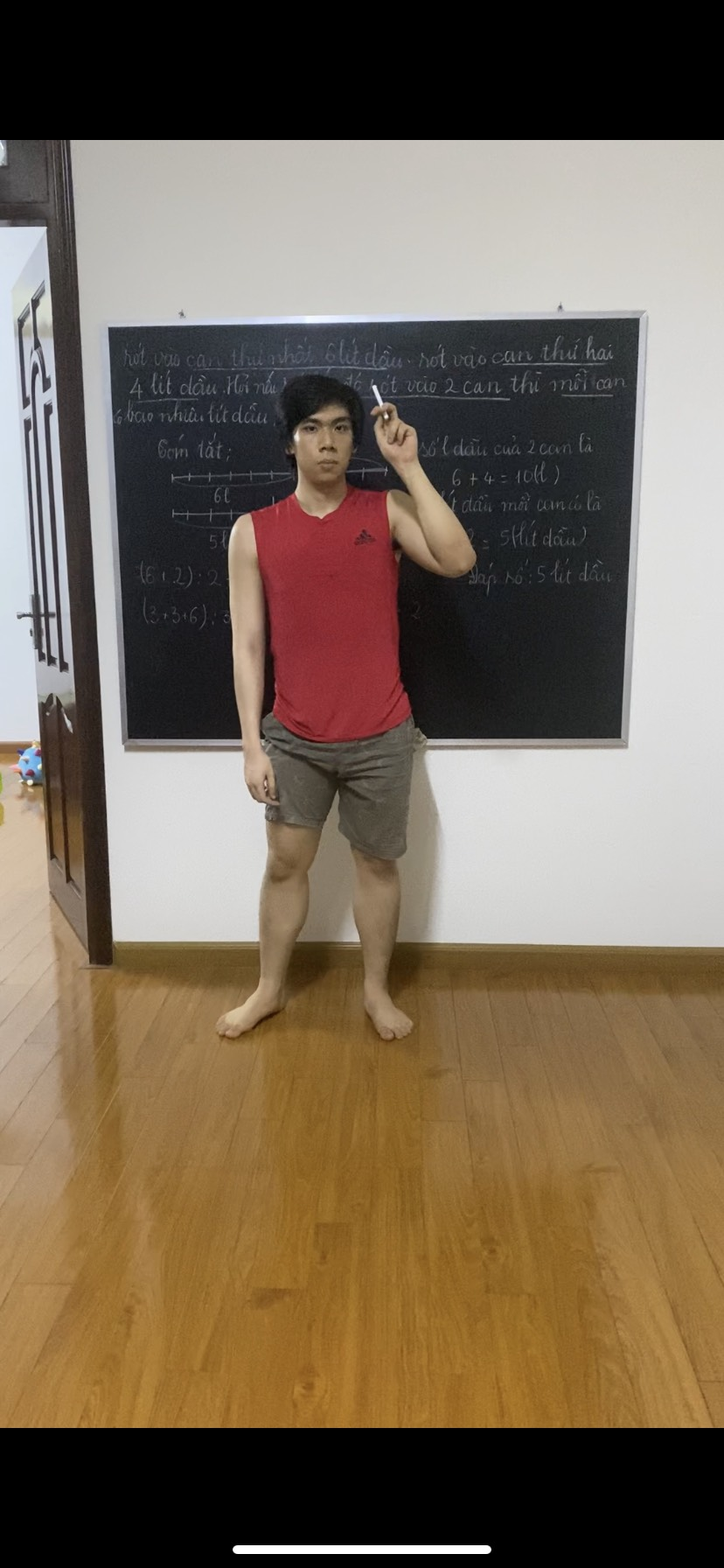cigarette: (367, 382, 388, 405)
person: (220, 379, 469, 1053)
